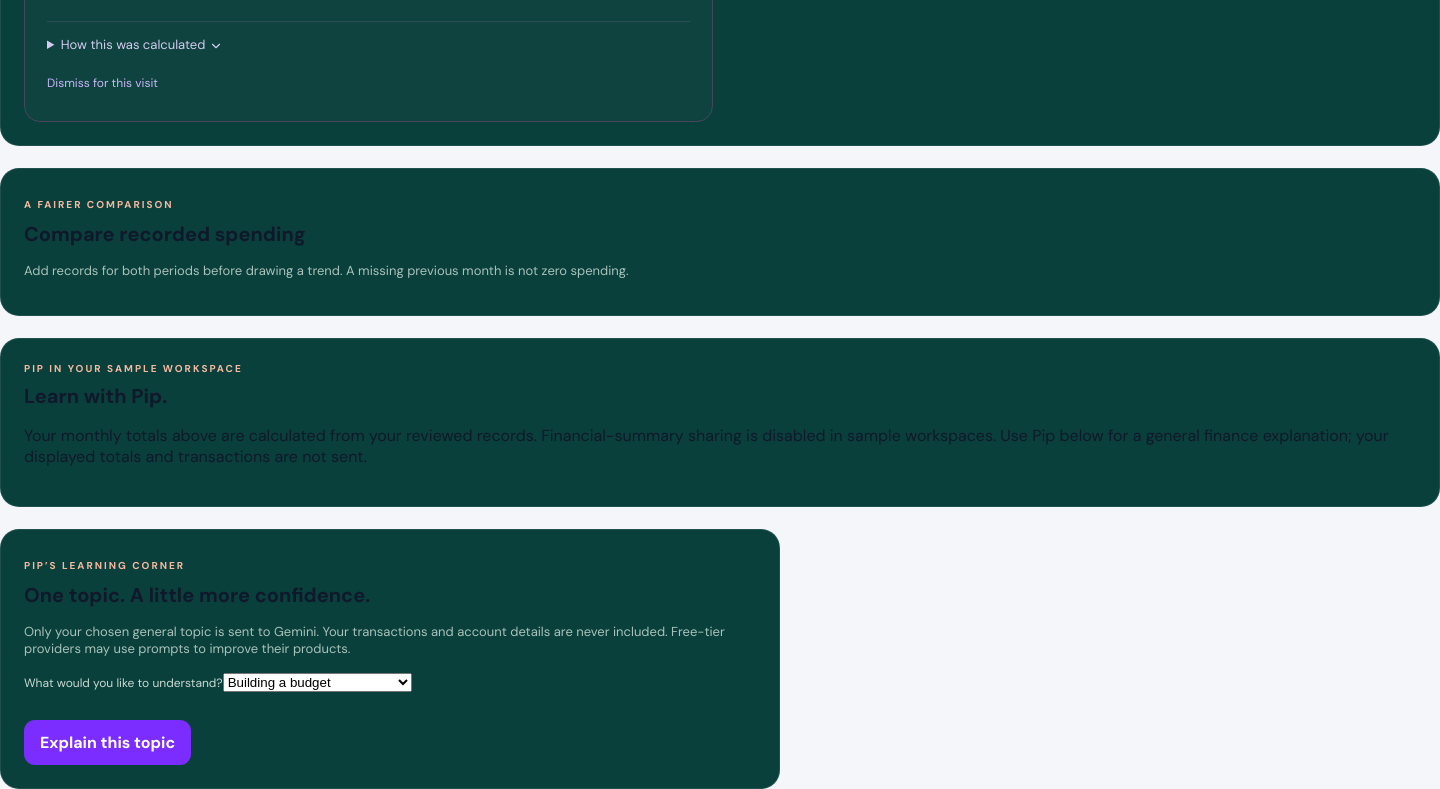
explains why sample financial-summary sharing is disabled
(page scrolled)
expect the text "Financial-summary sharing is disabled in sample workspaces" is shown: met, box [24,425,1389,467]
Step 1. Click the button "Explain this topic" → (108, 742), box [24,720,191,765]
(page scrolled)
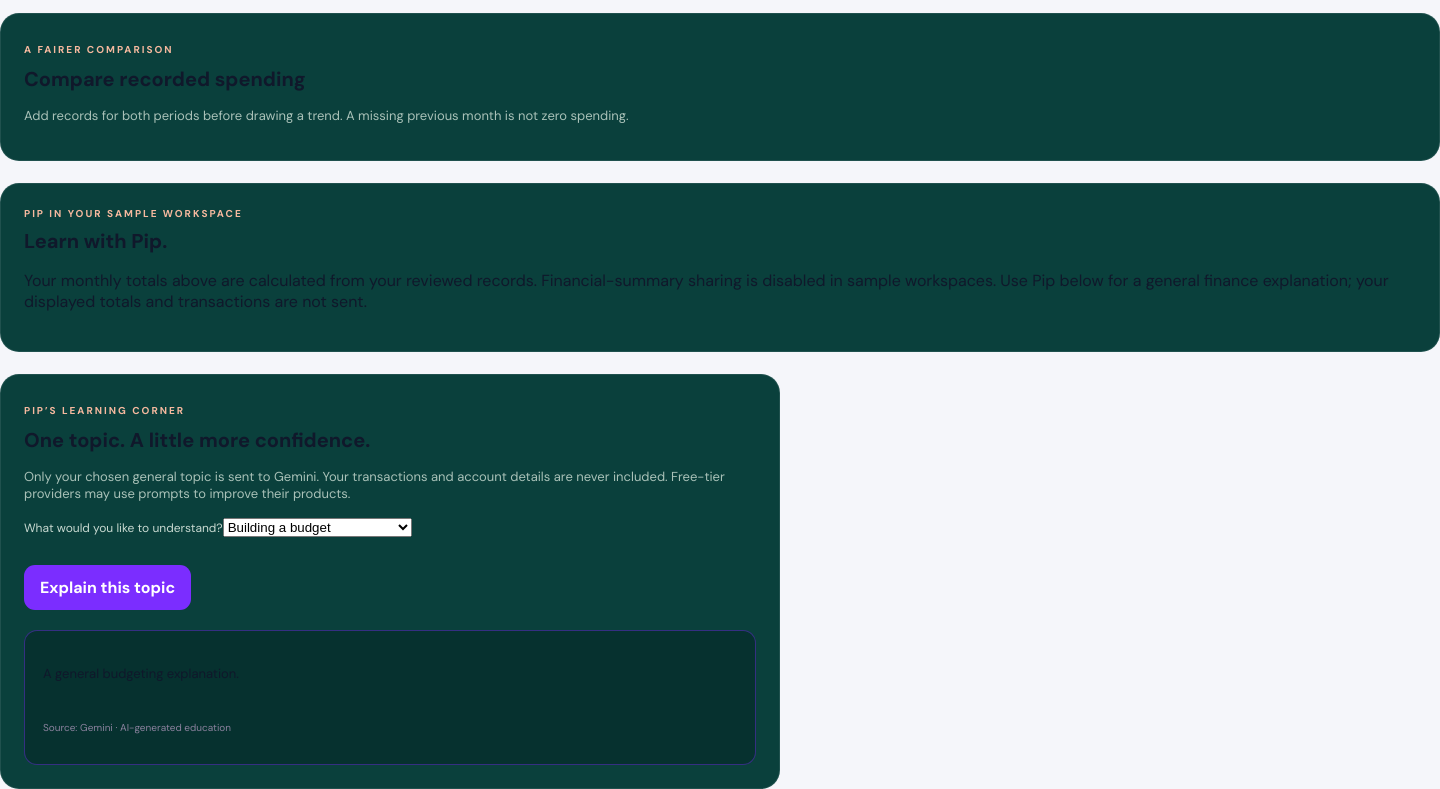
expect the text "A general budgeting explanation." is shown: met, box [43,665,239,682]
